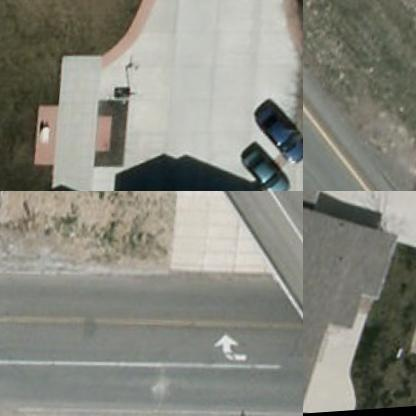car: (246, 103, 302, 177), (236, 145, 299, 190)
